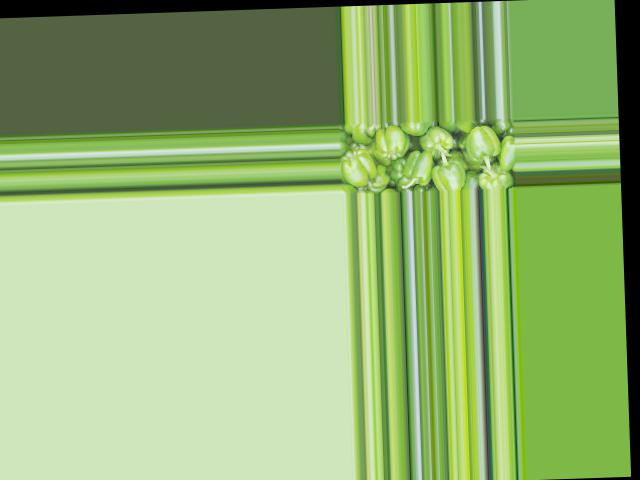bell_pepper: (338, 118, 514, 192)
